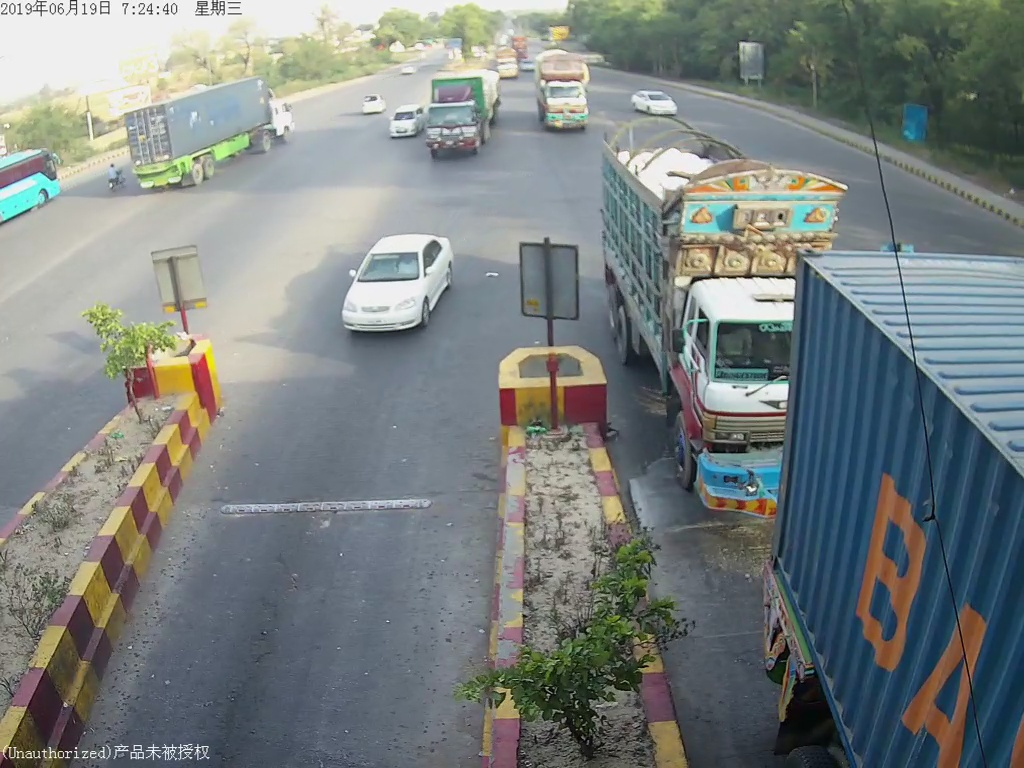Cat-1: (341, 231, 452, 333)
Cat-4: (603, 117, 779, 514)
Cat-5: (426, 69, 503, 159)
